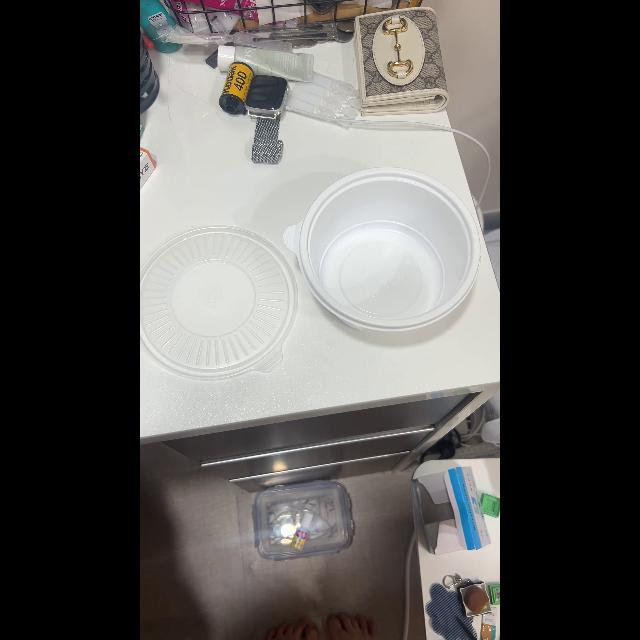clean: (284, 170, 478, 328), (140, 226, 300, 374)
